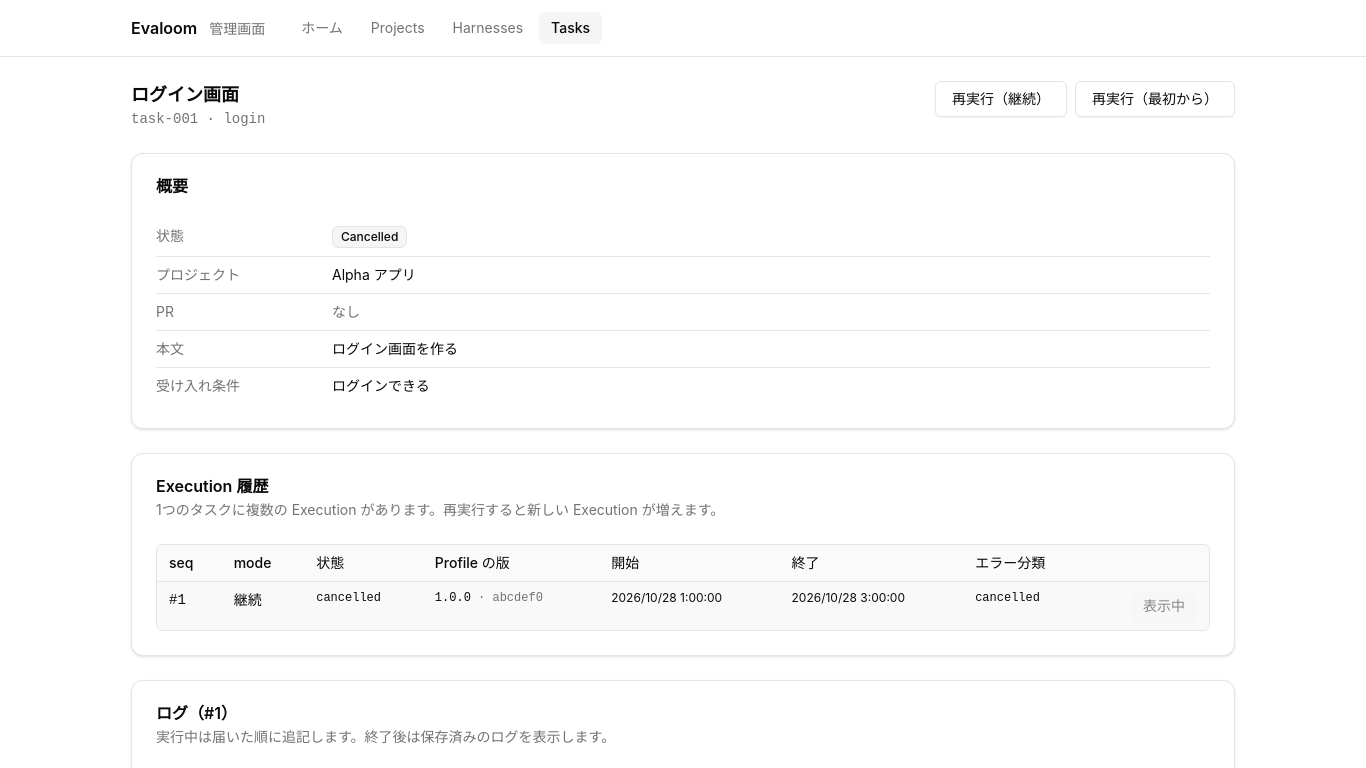
Test case: タスク詳細 › 再実行（継続）で新しい Execution が履歴に増え、その Execution を表示する
The image size is (1366, 768).
Expected: the heading "ログ（#1）" is shown, [156, 703, 237, 723]
Expected: the button "停止（中止）" is not shown
What coordinates should you click on to do the following:
click the button "再実行（継続）"
I would click on:
 (1001, 99)
Its box is [935, 81, 1067, 117].
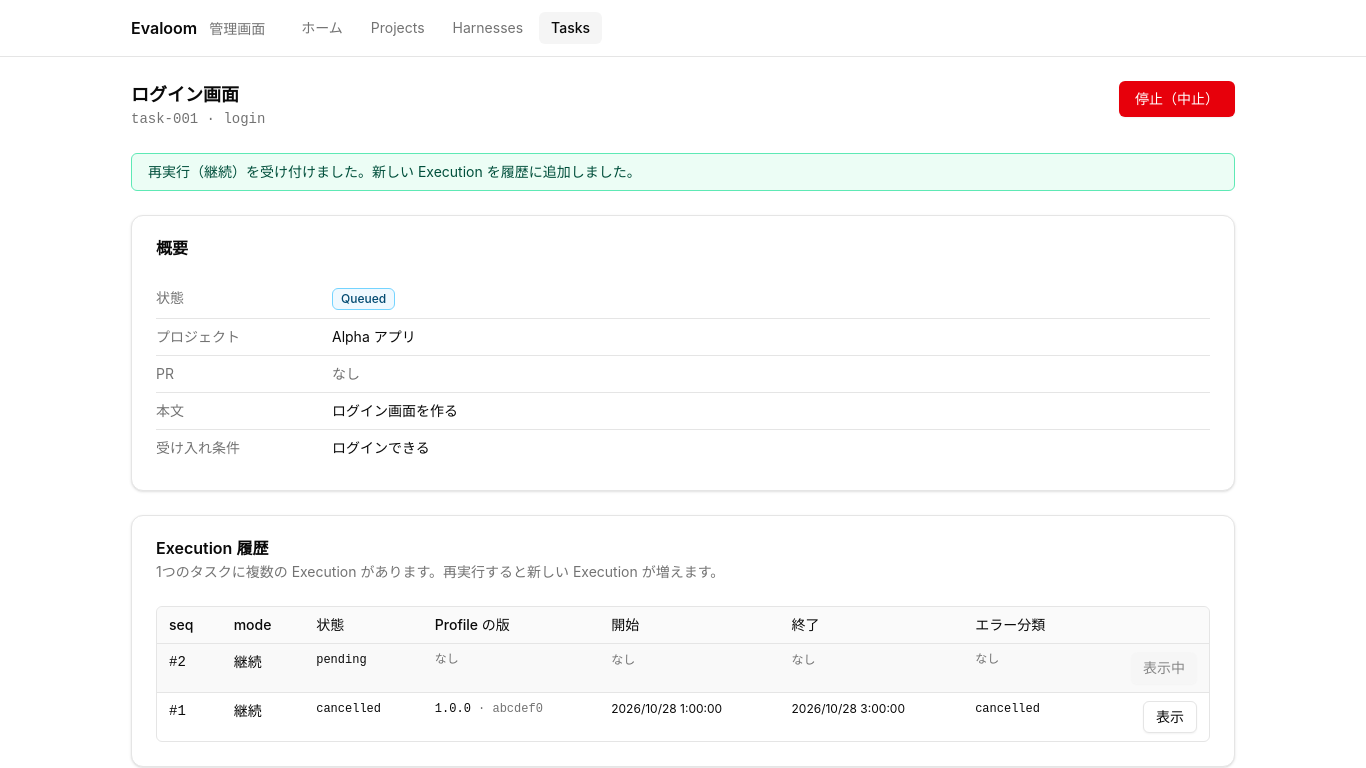
Expected: the message shows "再実行（継続）を受け付けました。", [148, 163, 641, 180]
Expected: the row "#2 継続 pending なし なし なし なし 表示中" is shown, [157, 644, 1209, 692]
Expected: the button "停止（中止）" is shown, [1119, 81, 1235, 117]
// 古い Execution も選んで表示できる。
What coordinates should you click on to do the following:
click the button with aria-label "#1 を表示"
I would click on:
 (1170, 717)
Its box is [1143, 701, 1197, 733].
(page scrolled)
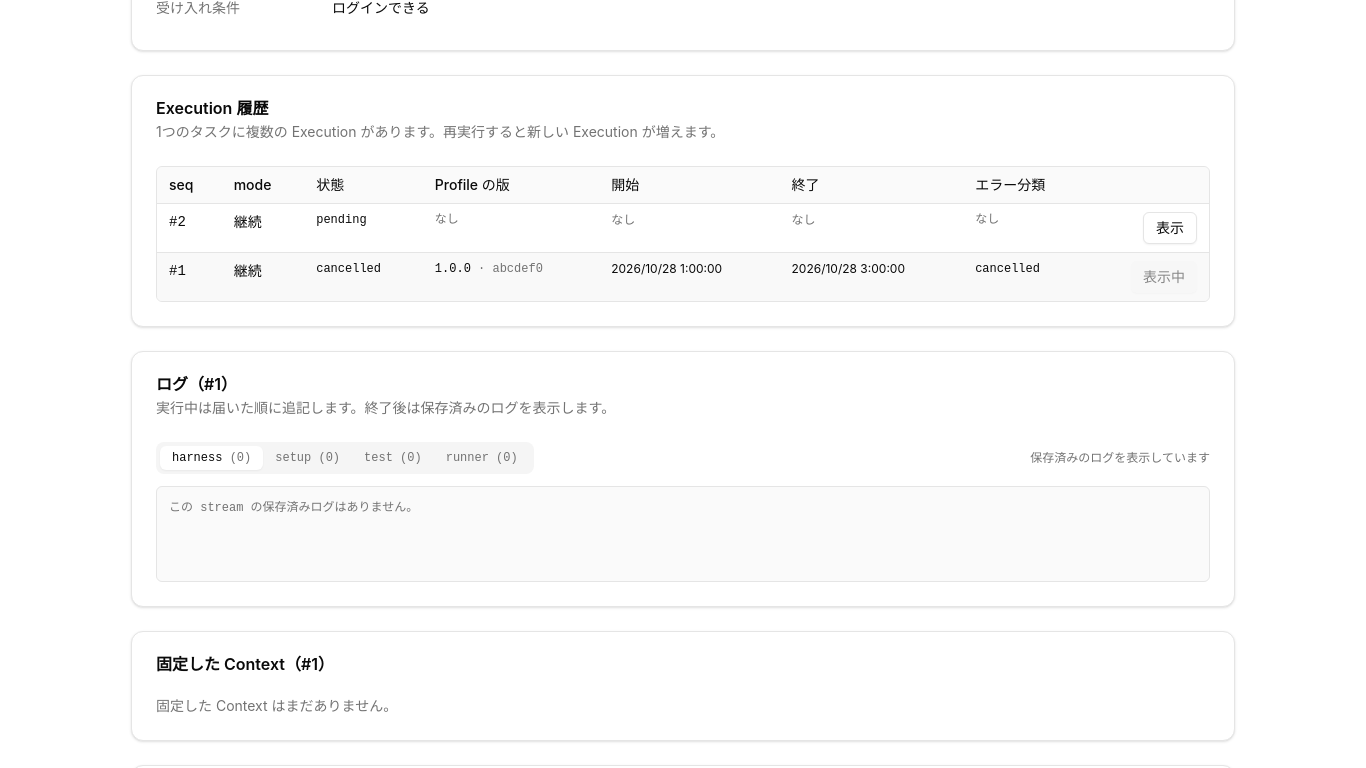
Expected: the heading "ログ（#1）" is shown, [156, 374, 237, 394]
